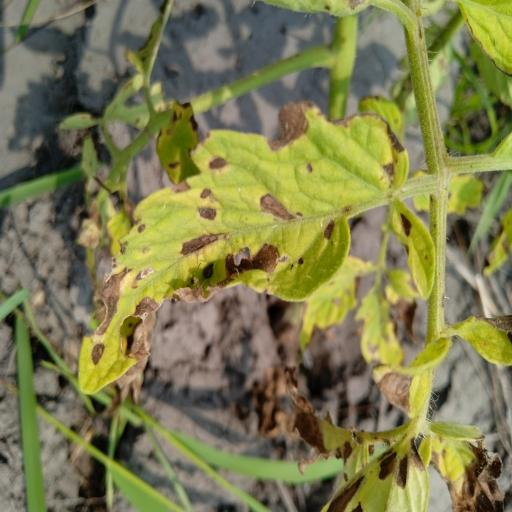Tomato_Brown_Spots: (77, 98, 442, 399)
